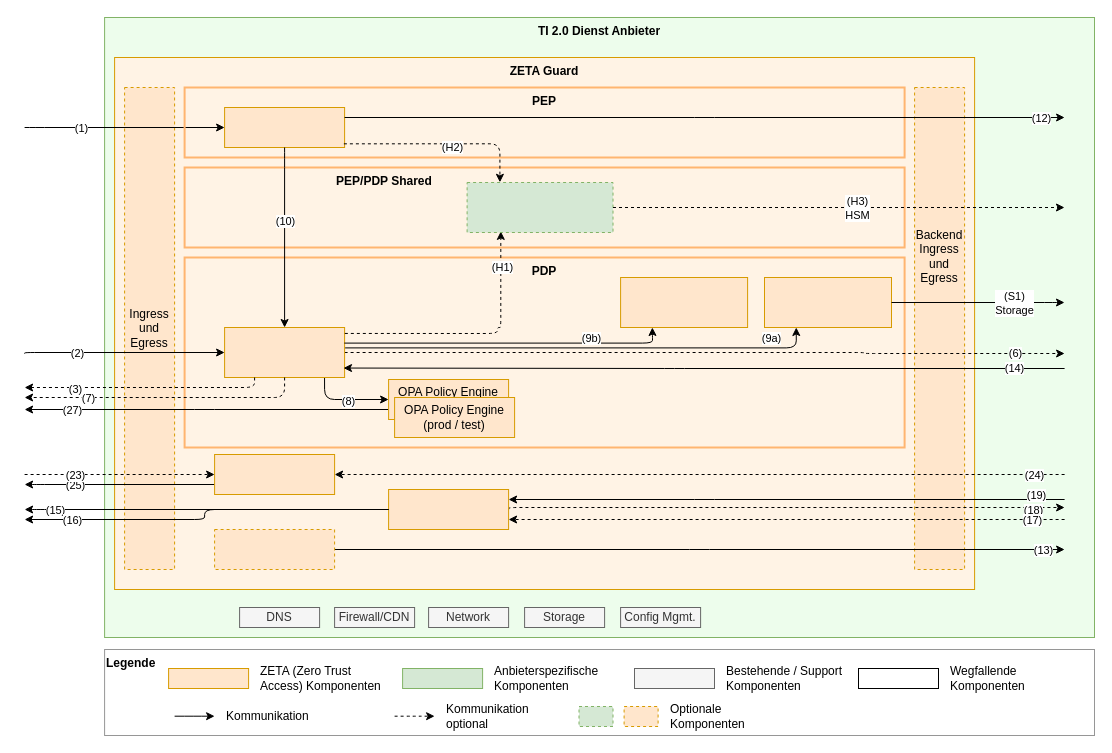
This 1112x753 diagram has some shape labels left out. Here are the shapes that lost their labels. From the top down, the centre of each, then its label:
point 284,127: HTTP Proxy
point 539,207: HSM Proxy (Alt: Sidecar an Http Proxy und Auth.Server)
point 684,302: Infinispan (PDP sync)
point 828,302: Postgres (PDP User/Client/Session)
point 284,352: Authorization Server
point 274,474: Notification Service
point 448,509: Telemetrie-Daten Service
point 274,549: Management Service
